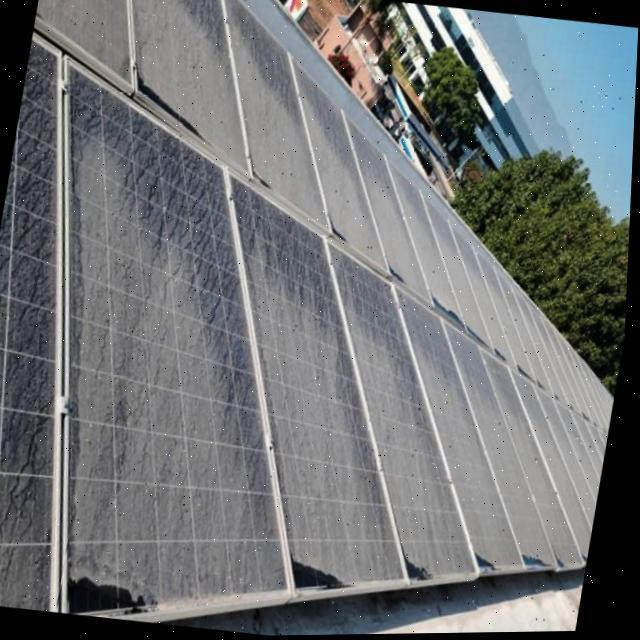Anomaly Solar Panel: (35, 0, 616, 432), (33, 47, 289, 616), (205, 158, 409, 613), (306, 229, 482, 598), (386, 274, 531, 586), (443, 319, 612, 571)
Surface Contaminant: (35, 0, 616, 431), (28, 47, 290, 617), (202, 154, 408, 612), (310, 231, 483, 595), (445, 323, 612, 569), (393, 276, 526, 579), (0, 38, 57, 612)
